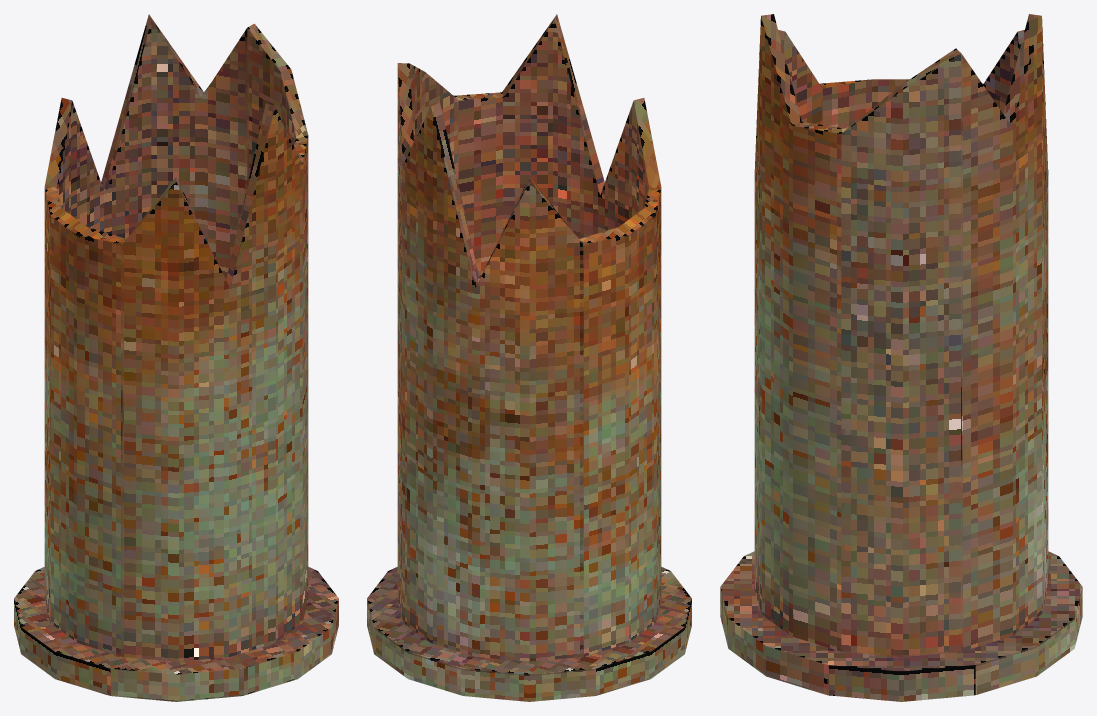
Rendered from Pipe_Set_4_1.glb.
3 views of the same model, side by side, from view 1: azimuth 30°, elevation 25°; view 2: azimuth 150°, elevation 25°; view 3: azimuth 270°, elevation 25° (orthographic). The views are drawn at different scales.
Parts seen in each view (by area): view 1: Pipe_Set_4_1; view 2: Pipe_Set_4_1; view 3: Pipe_Set_4_1.
Boxes of the visible parts, x1,y1,x2,y2 form: Pipe_Set_4_1: [14, 14, 338, 701]; Pipe_Set_4_1: [367, 14, 691, 701]; Pipe_Set_4_1: [720, 14, 1082, 701].
Bounding box in the file's own units: 0.2686 × 0.5173 × 0.2701.
Materials: 1 (1 with a texture image).
